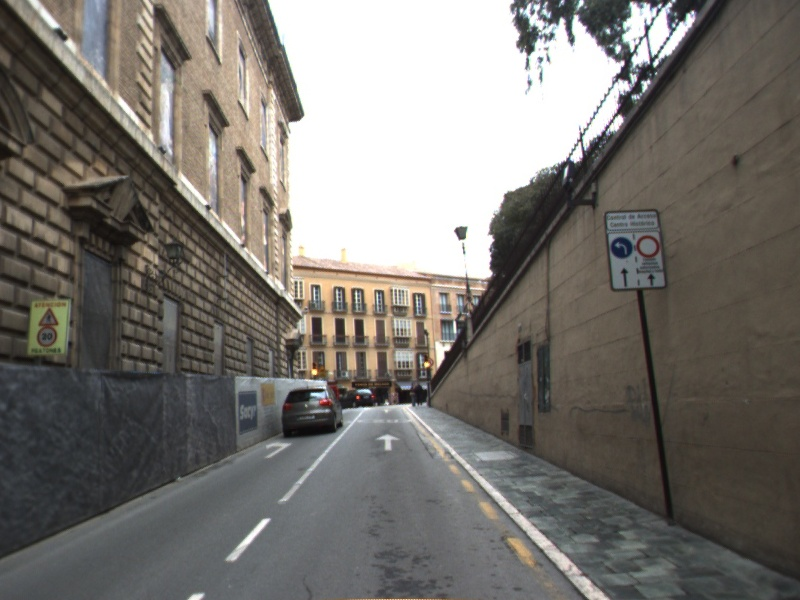LEFT: (262, 439, 294, 460)
STRAIGHT: (373, 432, 402, 453)
